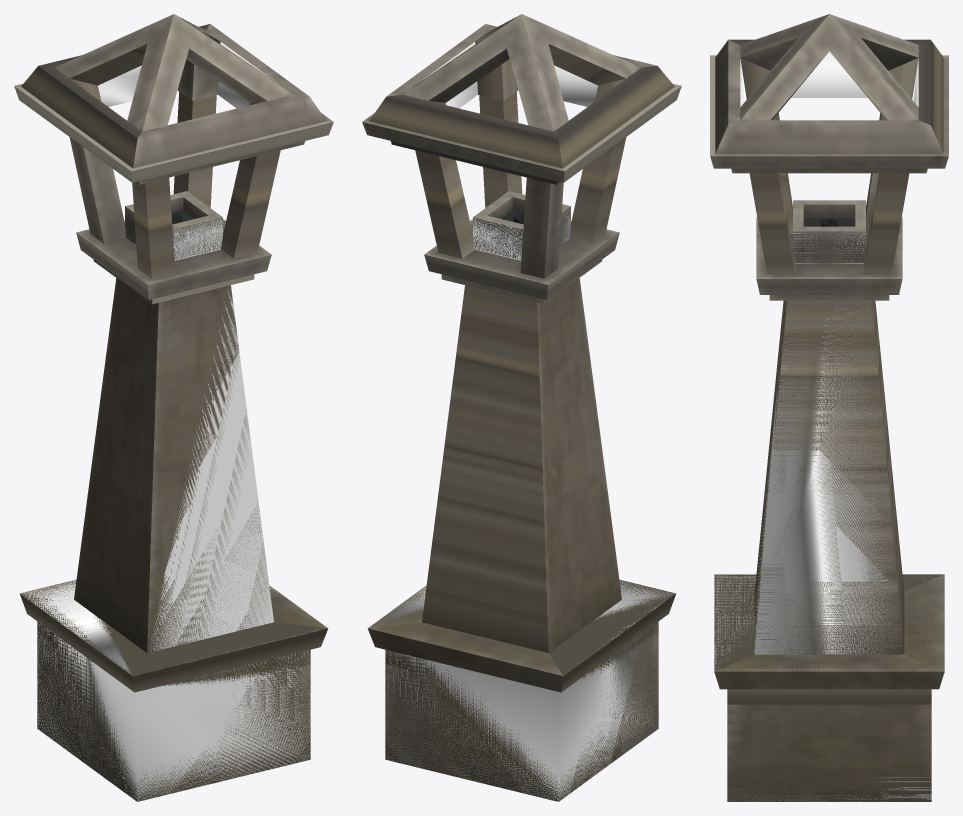
File: objects_un_dlc1_sllantern01.gltf
3 renders of one model, left to right at view 1: azimuth 30°, elevation 25°; view 2: azimuth 150°, elevation 25°; view 3: azimuth 270°, elevation 25°, orthographic. The views are drawn at different scales.
Visible parts, largest first — view 1: um_objects_un_dlc1_sllantern01_model_lod0Shape:objects_un_dl, um_objects_un_dlc1_sllantern01_model_lod0Shape:shadow_mat; view 2: um_objects_un_dlc1_sllantern01_model_lod0Shape:objects_un_dl, um_objects_un_dlc1_sllantern01_model_lod0Shape:shadow_mat; view 3: um_objects_un_dlc1_sllantern01_model_lod0Shape:objects_un_dl, um_objects_un_dlc1_sllantern01_model_lod0Shape:shadow_mat.
Part boxes in pixels (box(x1,y1,x2,y2)): um_objects_un_dlc1_sllantern01_model_lod0Shape:objects_un_dl: box(14, 14, 333, 801); um_objects_un_dlc1_sllantern01_model_lod0Shape:shadow_mat: box(20, 42, 332, 801); um_objects_un_dlc1_sllantern01_model_lod0Shape:objects_un_dl: box(362, 14, 681, 801); um_objects_un_dlc1_sllantern01_model_lod0Shape:shadow_mat: box(365, 42, 674, 801); um_objects_un_dlc1_sllantern01_model_lod0Shape:objects_un_dl: box(710, 14, 948, 801); um_objects_un_dlc1_sllantern01_model_lod0Shape:shadow_mat: box(710, 51, 948, 801).
Size of what is drawn, in the model's own units: 1.11 by 3.83 by 1.11.
2 materials, 1 textured.
